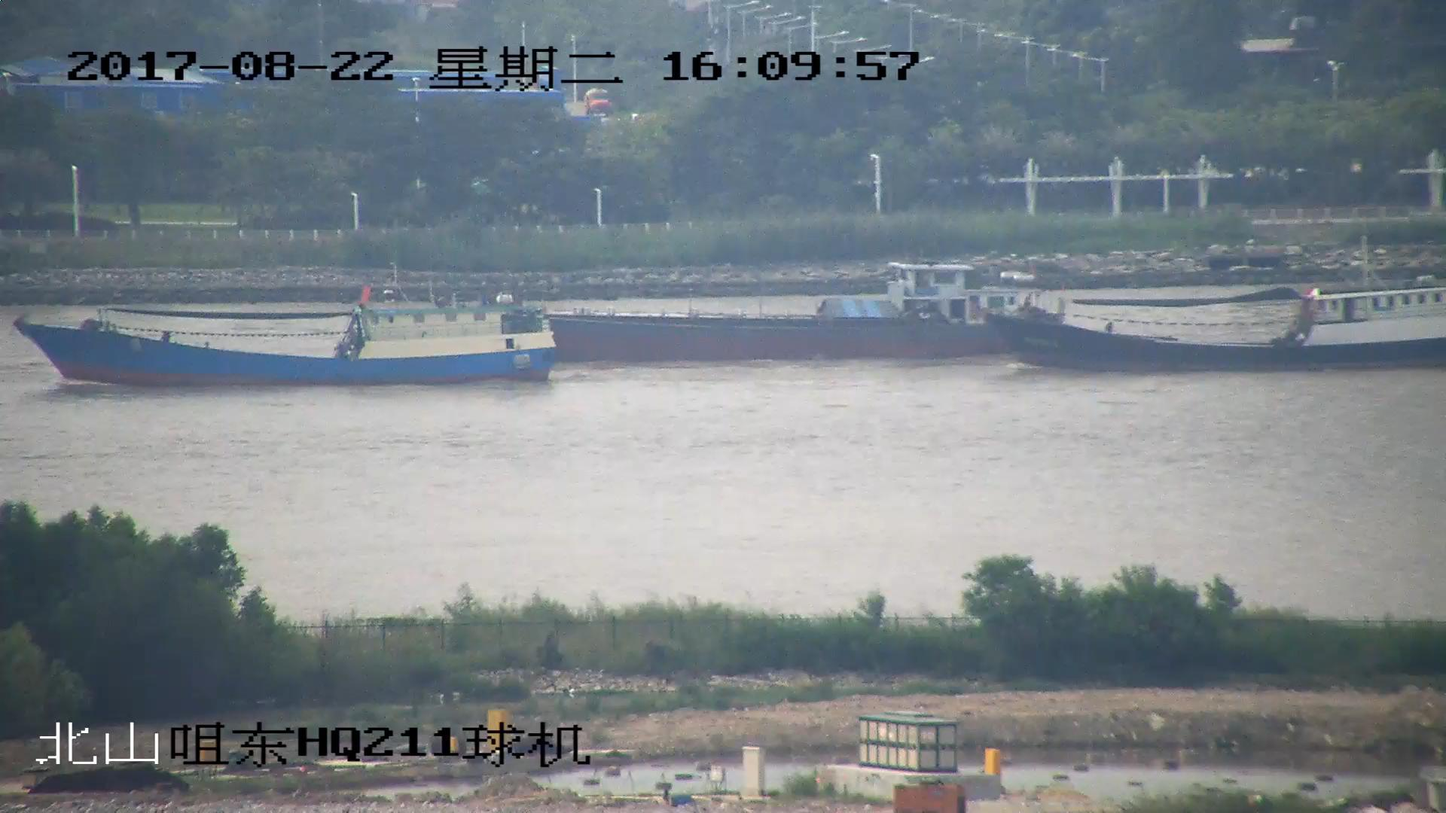bulk cargo carrier: (510, 256, 1023, 361)
fishing boat: (11, 280, 563, 388), (1010, 273, 1445, 367)
